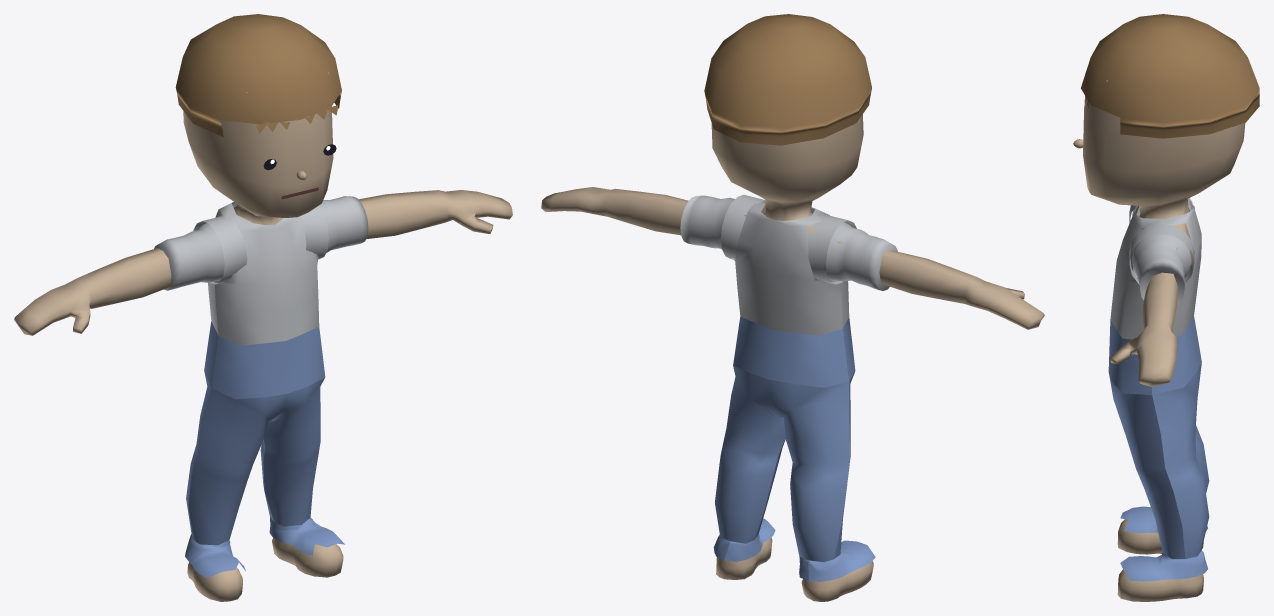
Rendered from eee445bd-cf69-4921-8d15-b1994b9af43b.glb.
The picture shows the model from 3 angles, left to right: view 1: azimuth 30°, elevation 25°; view 2: azimuth 150°, elevation 25°; view 3: azimuth 270°, elevation 25°; orthographic projection.
Visible parts, largest first — view 1: Body, Clothing_jeans, Clothing_short_sleeve, Hair; view 2: Clothing_jeans, Body, Clothing_short_sleeve, Hair; view 3: Body, Hair, Clothing_jeans, Clothing_short_sleeve.
Boxes of the visible parts, box(x1,y1,x2,y2) form: Body: box(14, 72, 512, 601); Clothing_jeans: box(185, 321, 344, 578); Clothing_short_sleeve: box(154, 196, 368, 345); Hair: box(175, 14, 341, 137); Clothing_jeans: box(713, 316, 875, 581); Body: box(541, 114, 1044, 601); Clothing_short_sleeve: box(680, 194, 897, 335); Hair: box(704, 14, 871, 145); Body: box(1083, 80, 1245, 601); Hair: box(1081, 14, 1259, 138); Clothing_jeans: box(1108, 316, 1209, 581); Clothing_short_sleeve: box(1110, 198, 1201, 339).
Size of the model in its own units: 1.44 by 1.53 by 0.4753.
